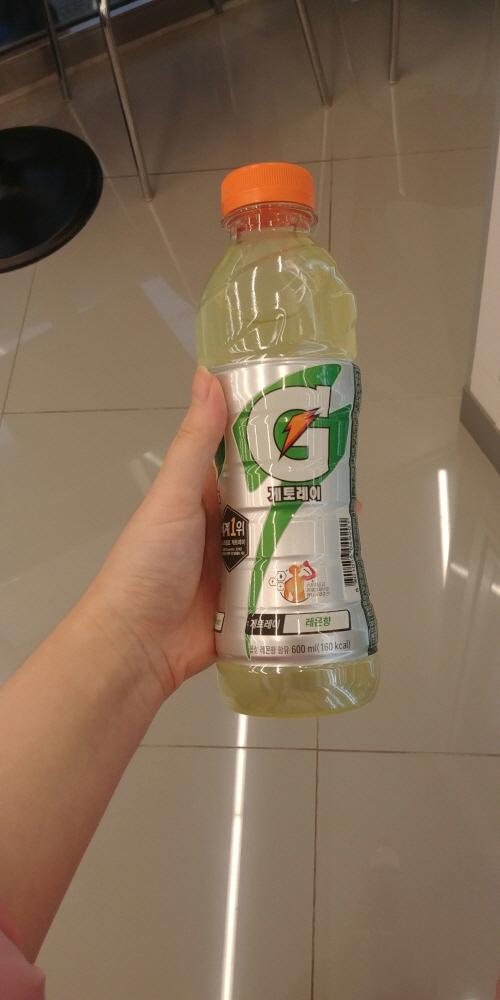gatorade_lemon: (176, 145, 388, 744)
